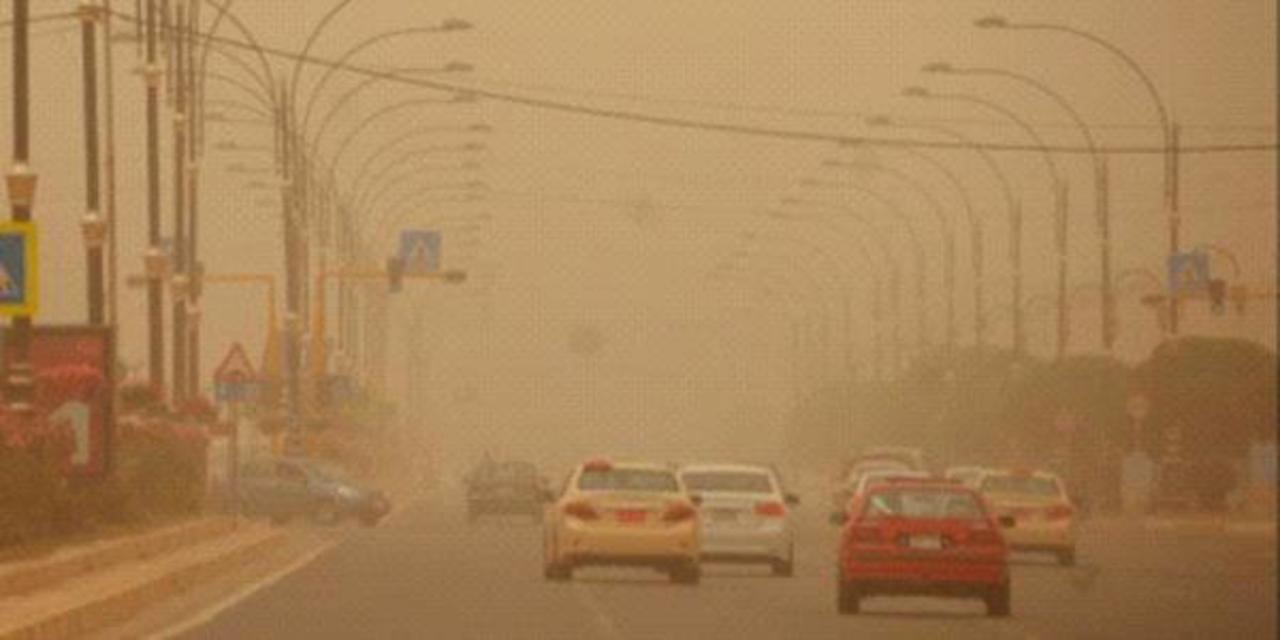car: (824, 480, 1011, 614), (544, 457, 707, 583), (677, 462, 798, 574), (958, 467, 1081, 564), (225, 455, 392, 525), (462, 456, 548, 525), (842, 469, 923, 517)
